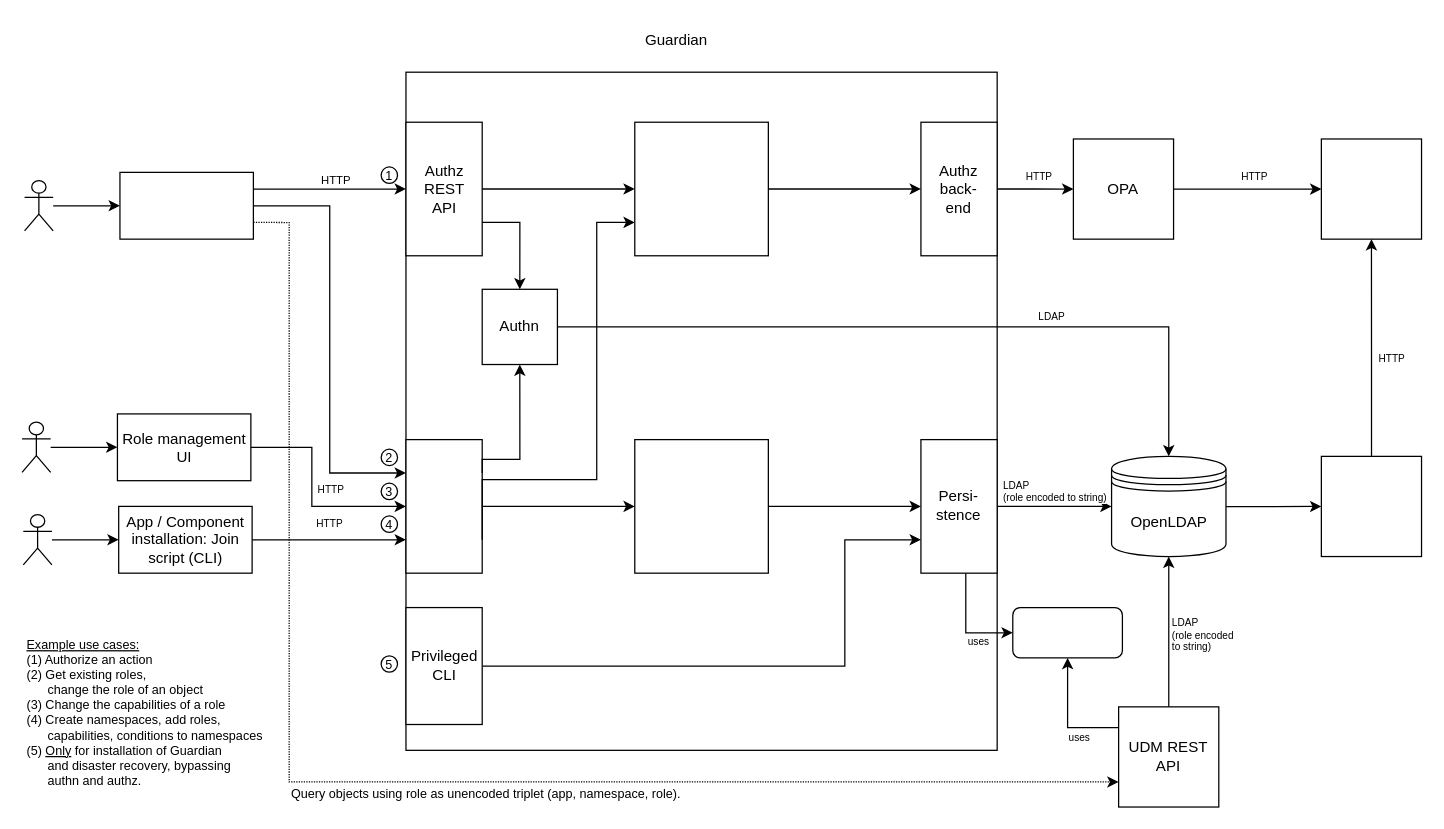
Some shapes in this 1444 by 829 pixel diagram are drawn without their labels. Each missing label, with the box of its shape:
Authori- zation: (634, 121, 768, 256)
Bundle server: (1320, 138, 1422, 239)
encoding library: (1012, 606, 1122, 658)
Listener module: (1320, 455, 1422, 557)
Management (CRUD roles, capabilities, etc): (634, 438, 768, 573)
Mgmt REST API: (405, 438, 482, 573)
UCS component / app: (119, 171, 253, 239)
